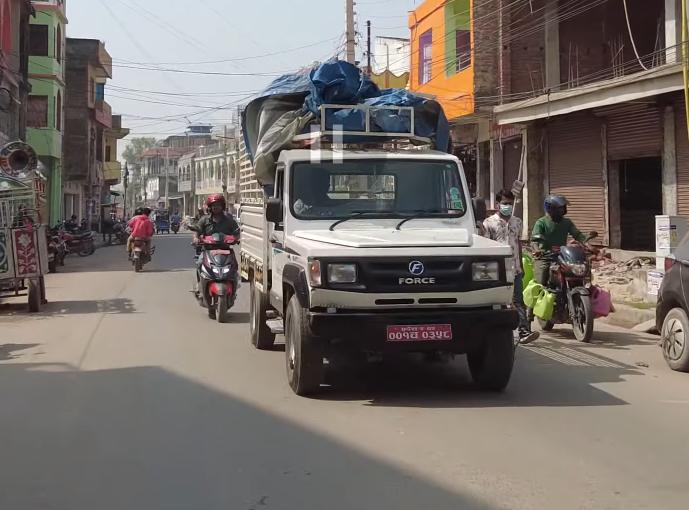transport_vehicle: (232, 74, 528, 405)
